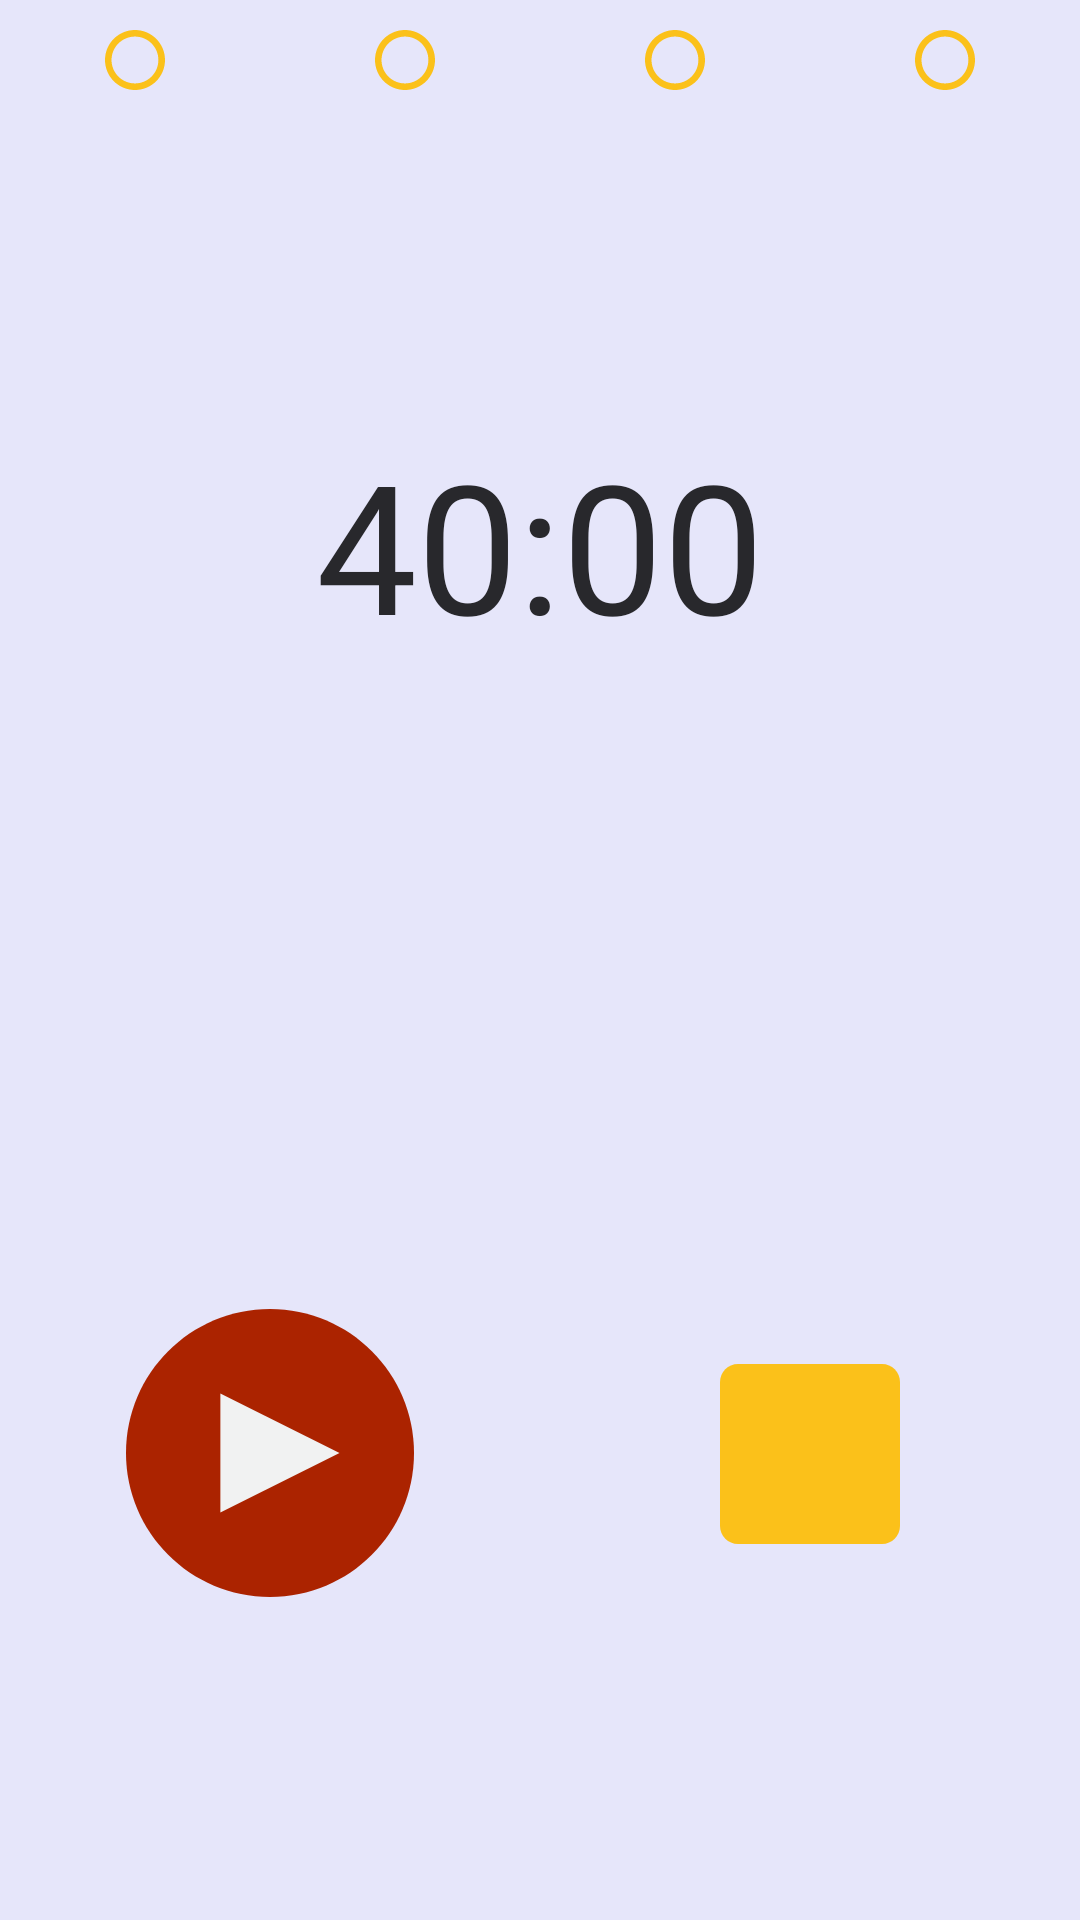

Where icons sit on this 1080px x 1920px app screen, as (x1, y1, x2, y2):
play: (126, 1309, 414, 1597)
